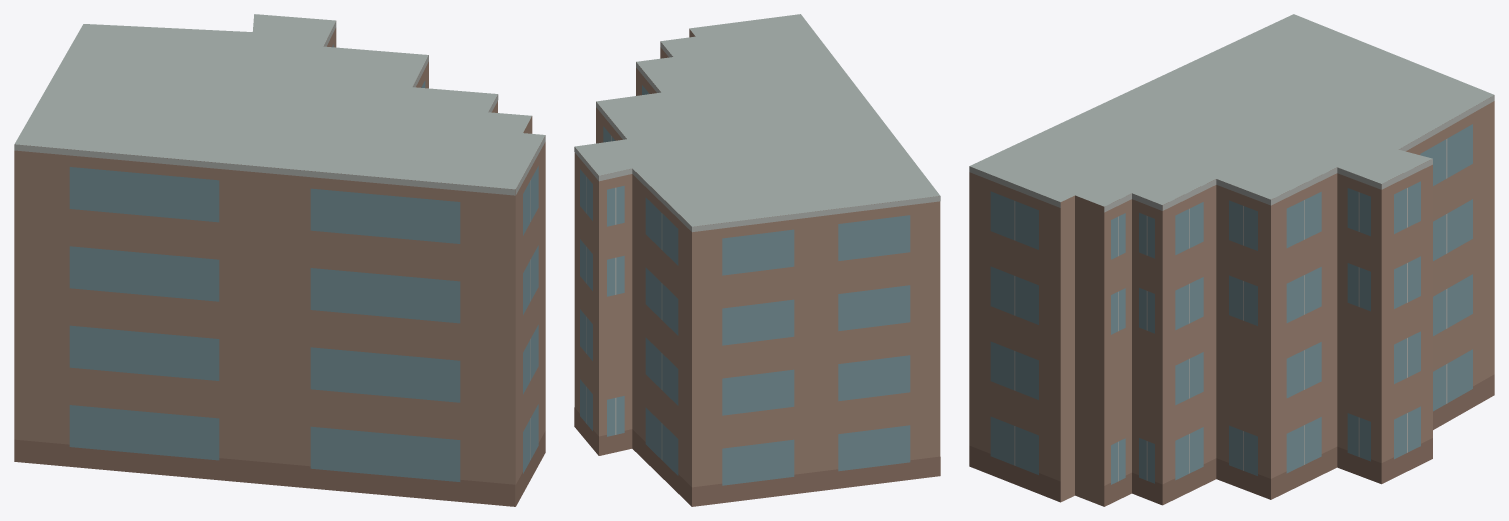
File: survey-upis-32971592.glb
3 views of the same model, side by side, from view 1: azimuth 30°, elevation 25°; view 2: azimuth 150°, elevation 25°; view 3: azimuth 270°, elevation 25° (orthographic). The views are drawn at different scales.
Parts seen in each view (by area): view 1: survey-upis-32971592.tmp; view 2: survey-upis-32971592.tmp; view 3: survey-upis-32971592.tmp.
Part boxes in pixels (left/top/right/bottom): survey-upis-32971592.tmp: left=14, top=14, right=545, bottom=506; survey-upis-32971592.tmp: left=574, top=14, right=940, bottom=506; survey-upis-32971592.tmp: left=969, top=14, right=1494, bottom=506.
Bounding box in the file's own units: 17.22 × 12.5 × 19.84.
